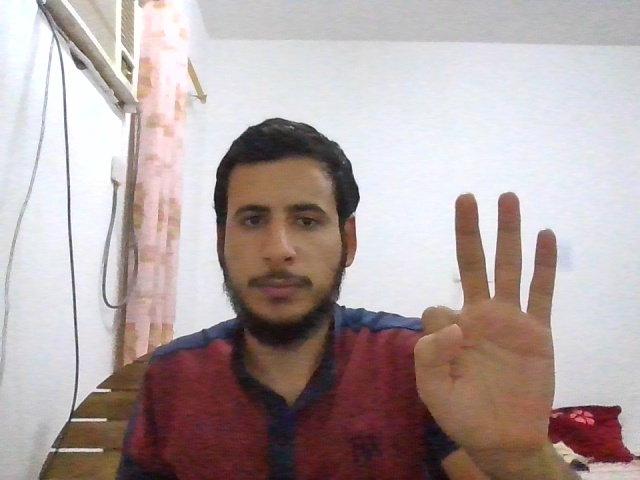Three: (414, 191, 559, 445)
